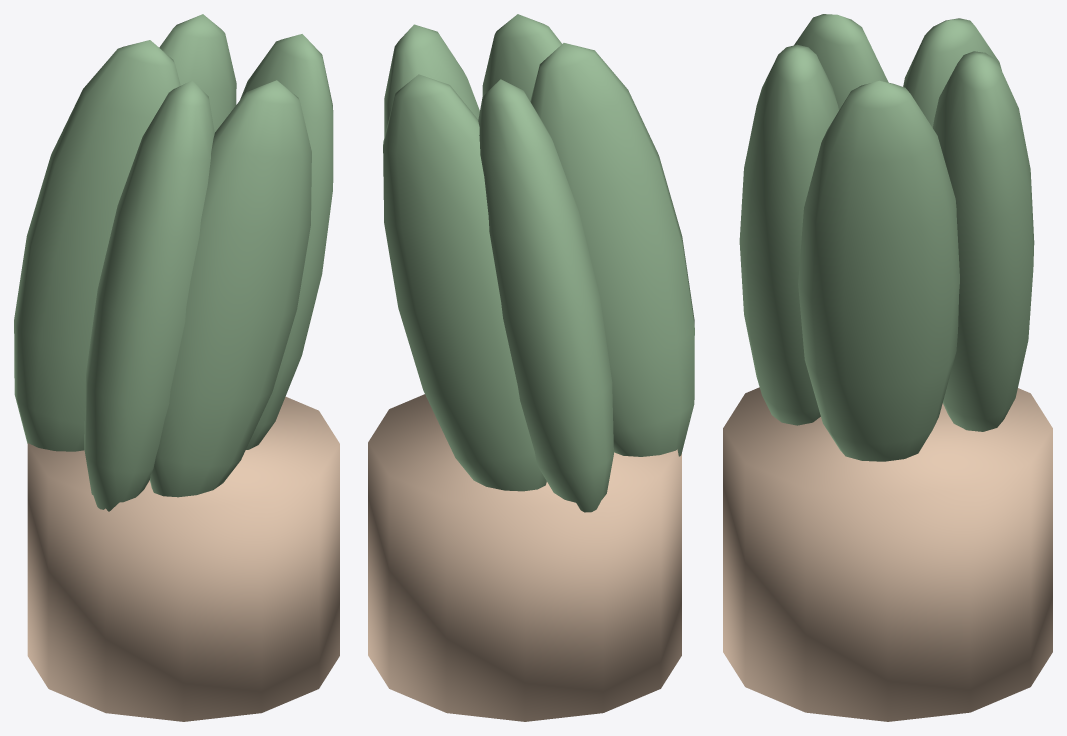
The model's file is Plant.fbx.
The picture shows the model from 3 angles, left to right: view 1: azimuth 30°, elevation 25°; view 2: azimuth 150°, elevation 25°; view 3: azimuth 270°, elevation 25°; orthographic projection. The views are drawn at different scales.
Parts seen in each view (by area): view 1: Plant_Leaf, Plant_Clay; view 2: Plant_Leaf, Plant_Clay; view 3: Plant_Leaf, Plant_Clay.
Boxes of the visible parts, left/top/right/bottom form: Plant_Leaf: left=14, top=14, right=333, bottom=511; Plant_Clay: left=27, top=396, right=339, bottom=721; Plant_Leaf: left=383, top=14, right=694, bottom=512; Plant_Clay: left=368, top=394, right=681, bottom=721; Plant_Leaf: left=739, top=14, right=1034, bottom=461; Plant_Clay: left=723, top=387, right=1052, bottom=721.
Size of the model in its own units: 40.01 by 84.4 by 40.
